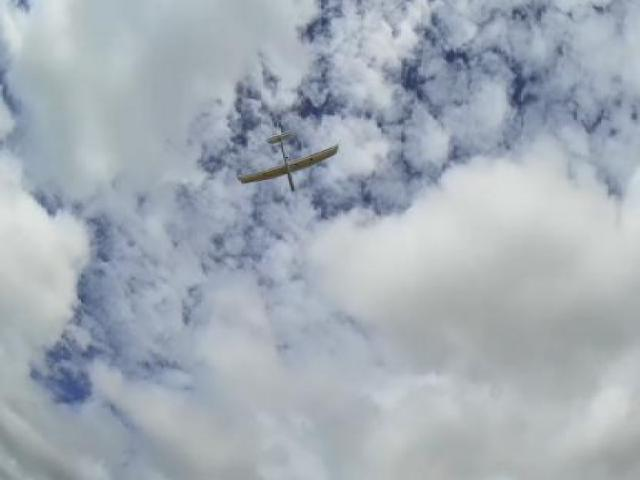uav: (225, 115, 347, 204)
